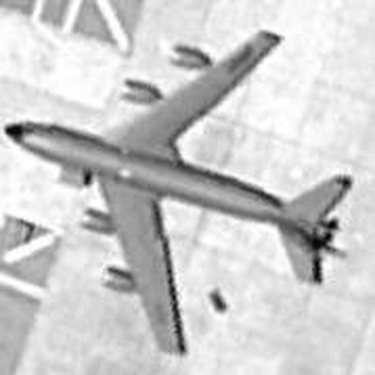airplane: (1, 16, 367, 361)
